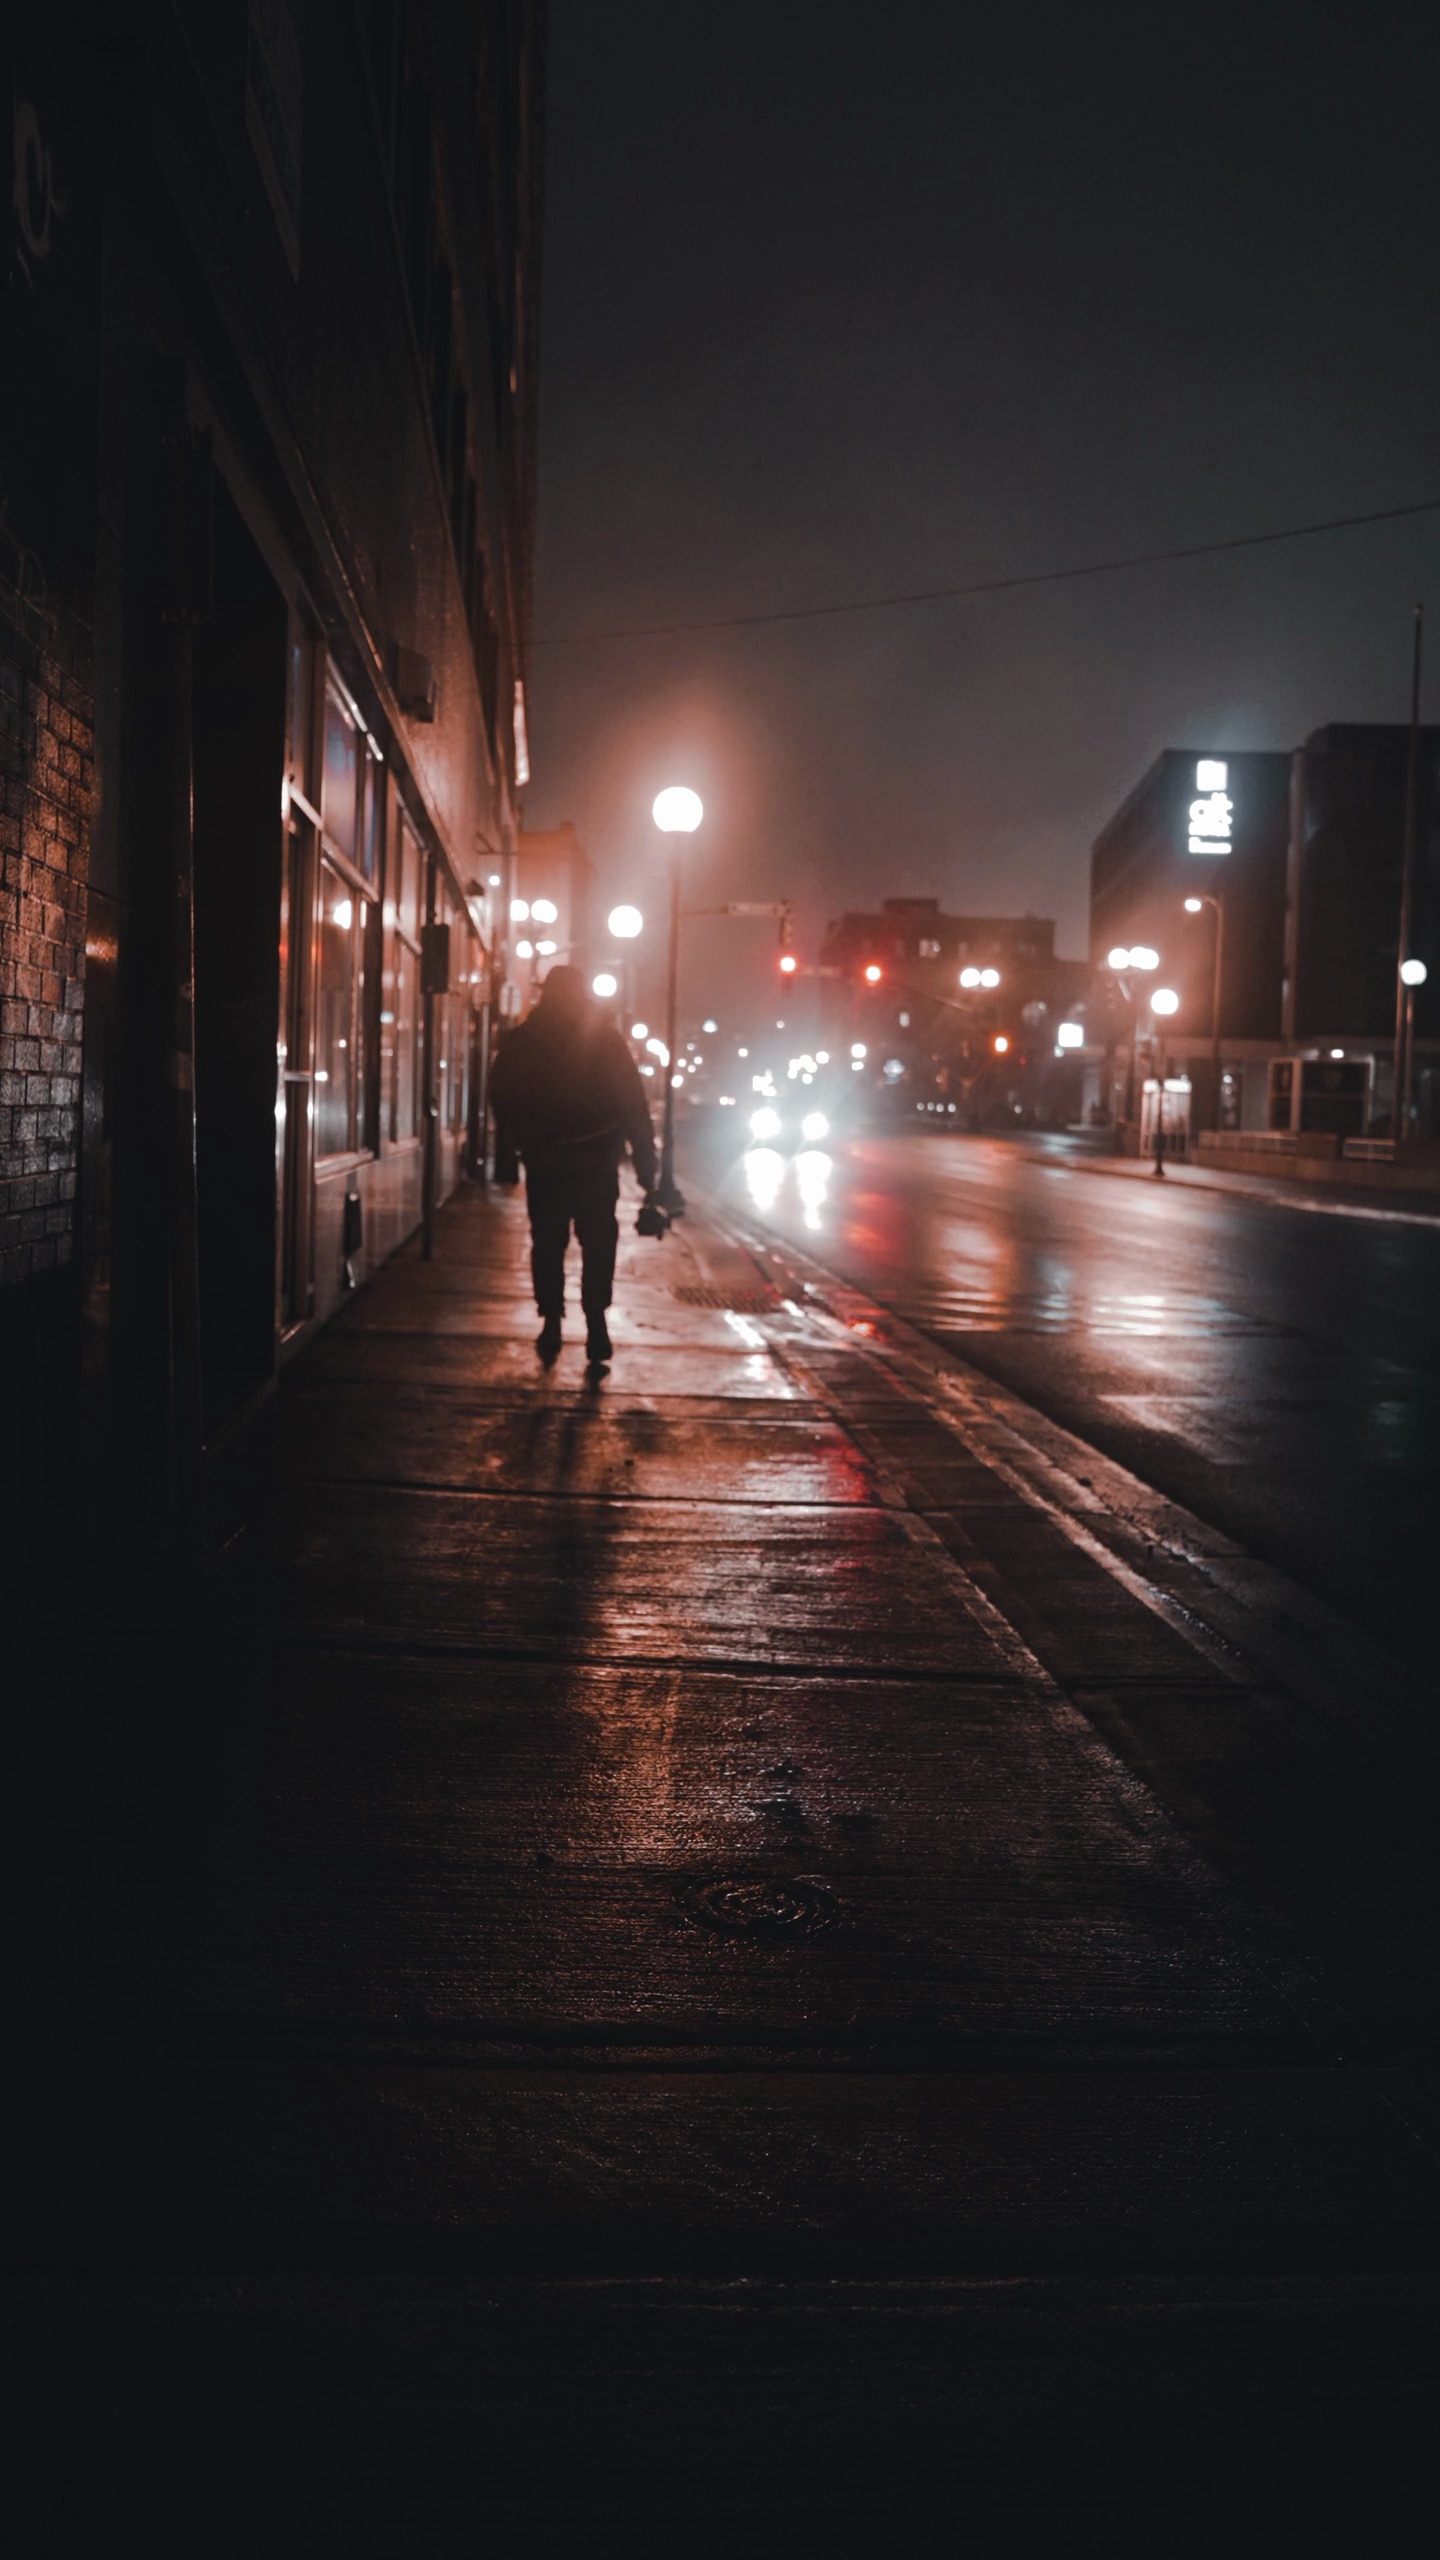person: (465, 961, 664, 1358)
